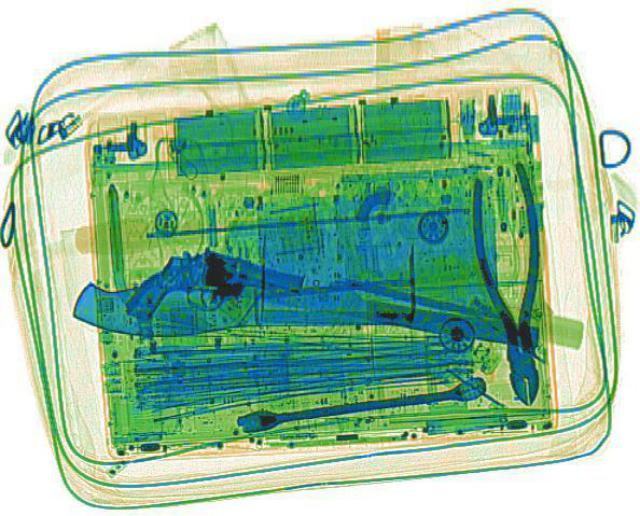Gun: (120, 236, 306, 350)
Knife: (70, 276, 384, 345)
Pliers: (462, 159, 558, 404)
